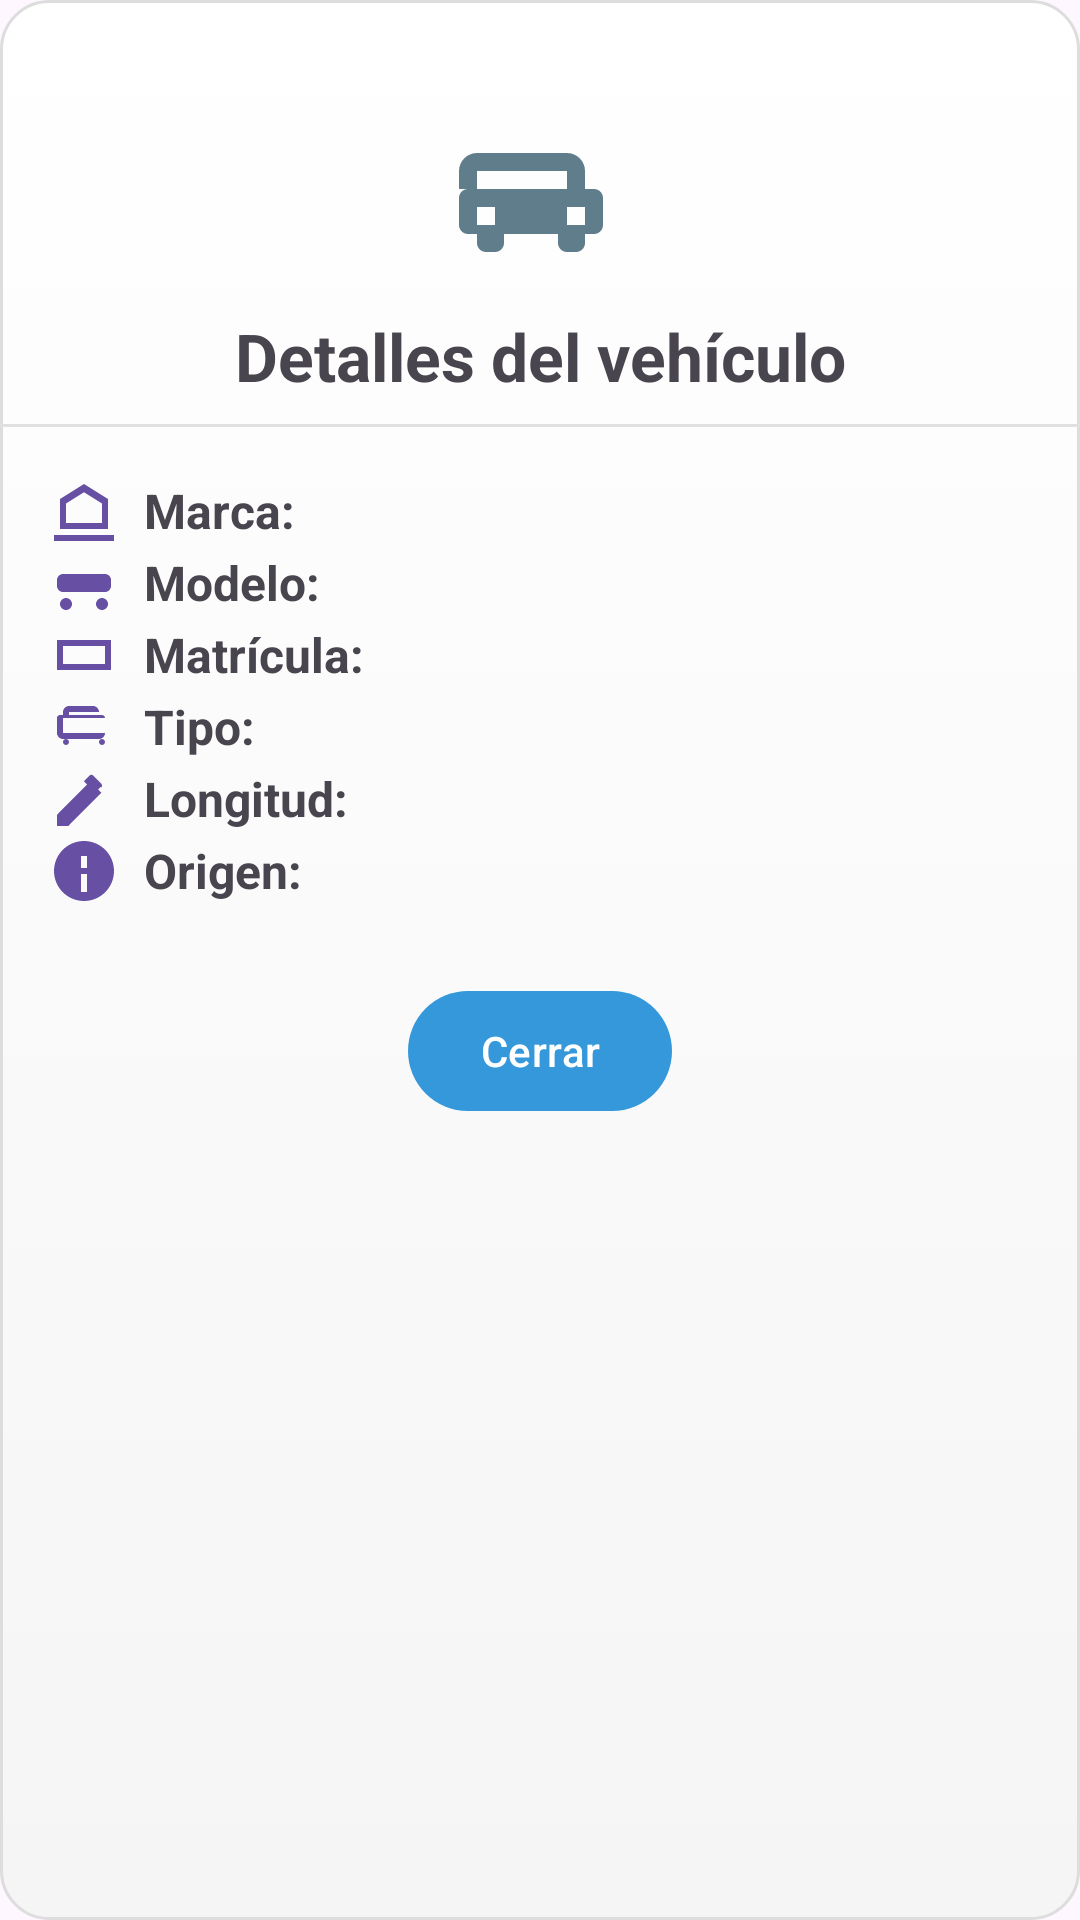

Where to tap for icons on this 1080*1920 app screen, as point (x, y):
info: point (84, 871)
license plate: point (84, 655)
